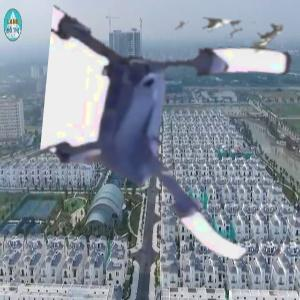drone: (43, 14, 298, 269)
